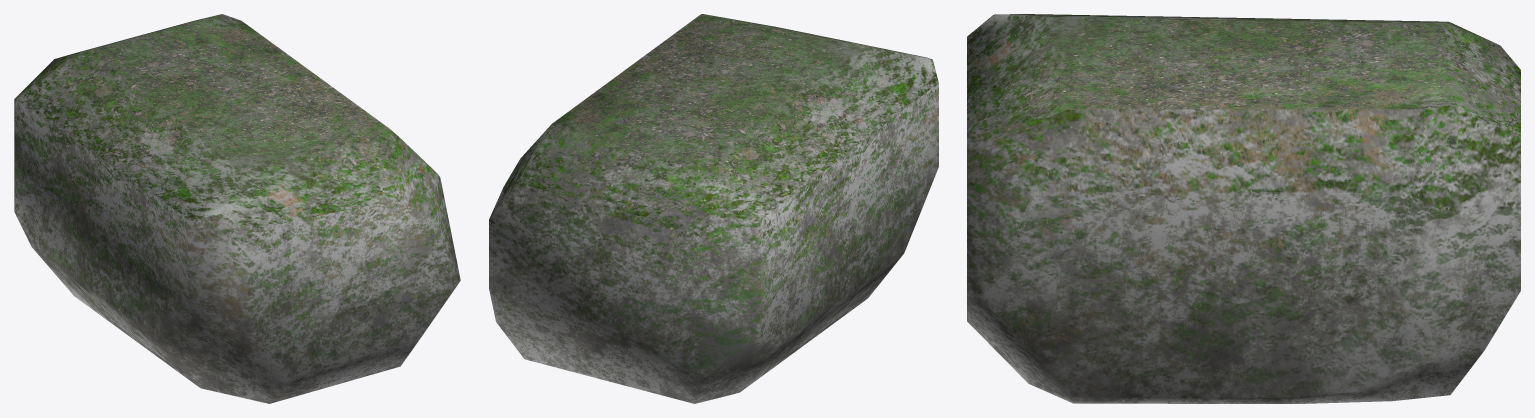
File: Stone1.fbx
The picture shows the model from 3 angles, left to right: view 1: azimuth 30°, elevation 25°; view 2: azimuth 150°, elevation 25°; view 3: azimuth 270°, elevation 25°; orthographic projection. The views are drawn at different scales.
Visible parts, largest first — view 1: Stone1_LOD0; view 2: Stone1_LOD0; view 3: Stone1_LOD0.
Part boxes in pixels (x1,y1,x2,y2): Stone1_LOD0: (14,14,460,403); Stone1_LOD0: (489,14,938,403); Stone1_LOD0: (967,14,1520,403).
Size of the model in its own units: 27.51 by 42.54 by 23.4.
1 material, 1 textured.
